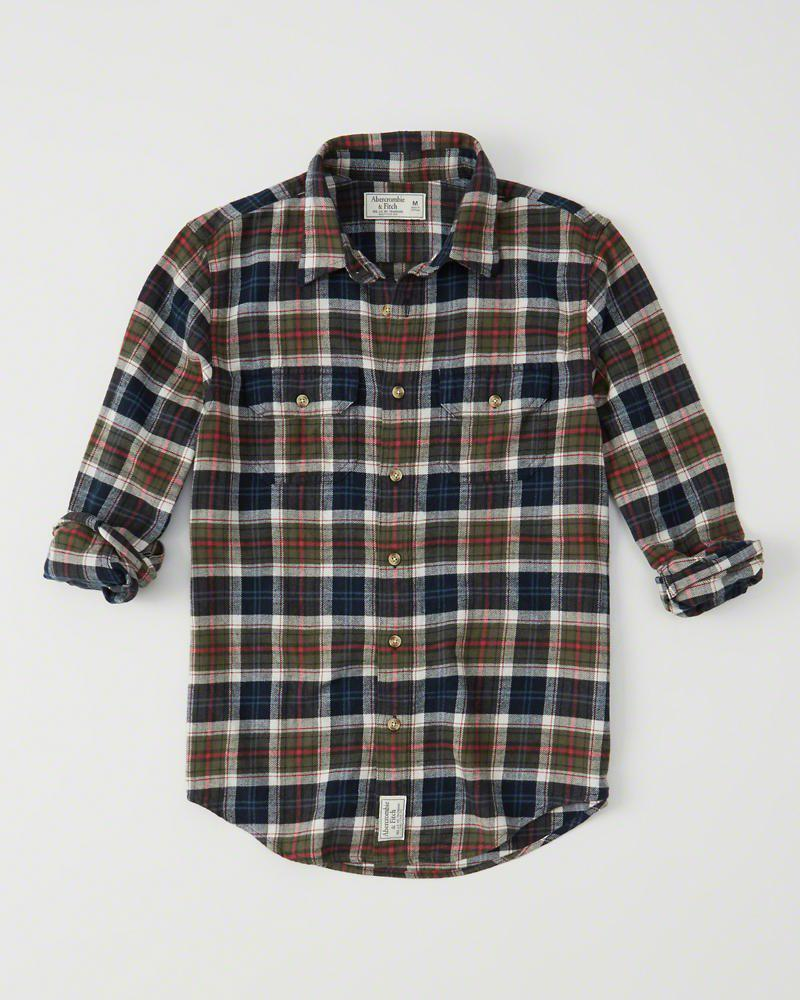teeshirt: (41, 125, 768, 910)
